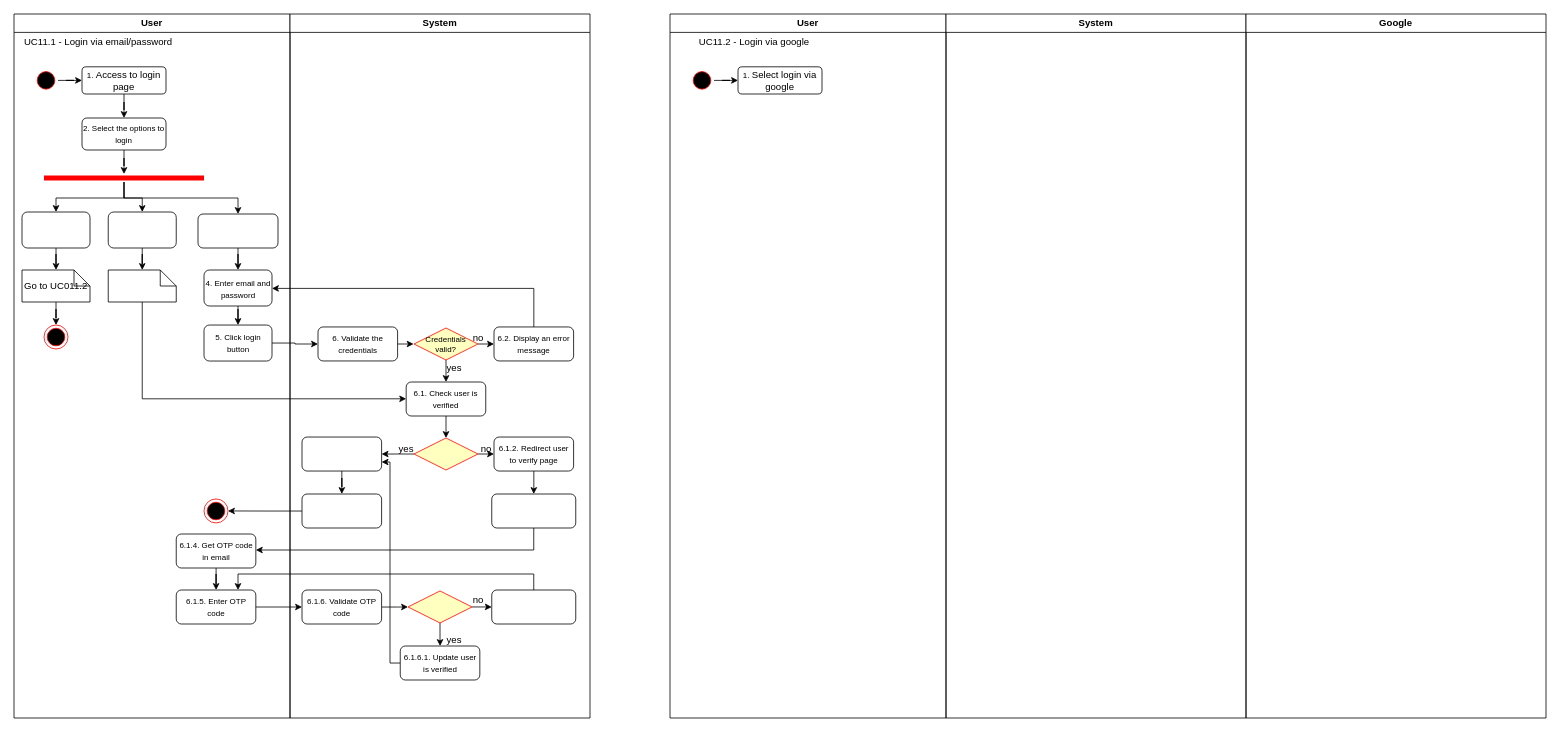
The diagram is 1560 pixels wide and 732 high, and some of its shapes have lost their labels. Each missing label, with the centre of its shape:
3.1. Select l ogin via email / password: (237,230)
3.2. Select r egister: (141,229)
3.3. Select login via google: (55,229)
6.1.1. Authenticate user: (341,453)
6.1.3. Send OTP code to the user's gmail: (533,510)
6.1.6.2. Display an error messsage: (533,606)
7. Redirect user according to their role: (341,510)
Go to UC05: (141,285)
Is valid?: (439,606)
Is verified?: (445,453)
